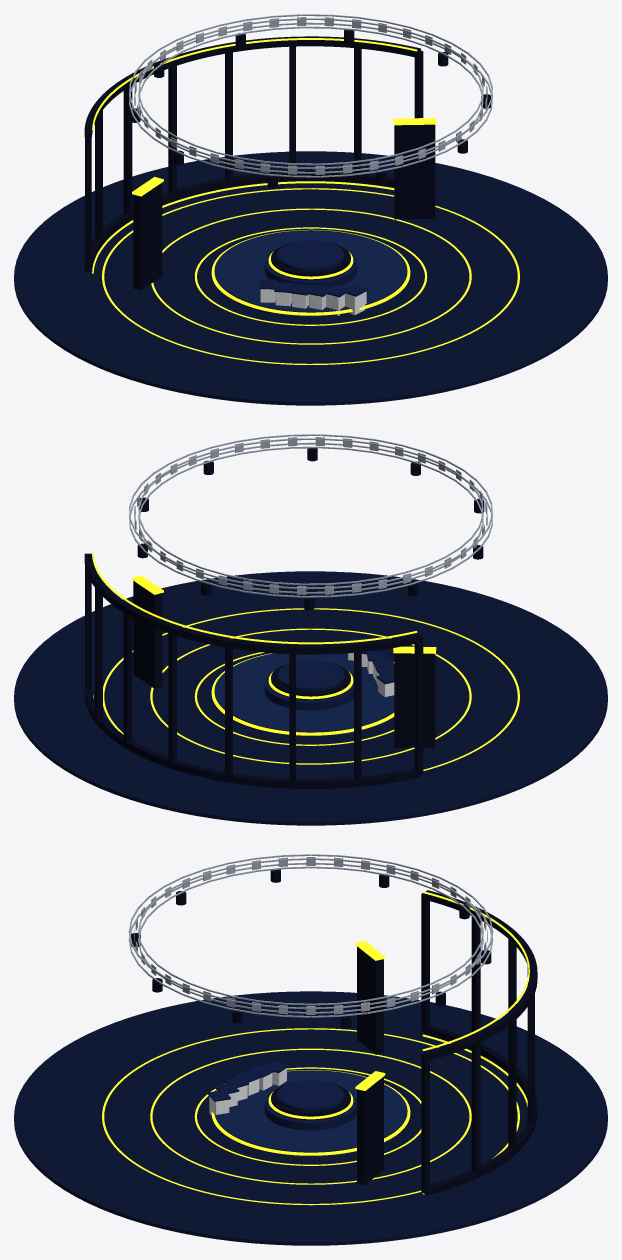
The model's file is studio.glb.
3 views of the same model, one above another, from view 1: azimuth 30°, elevation 25°; view 2: azimuth 150°, elevation 25°; view 3: azimuth 270°, elevation 25° (orthographic).
Parts seen in each view (by area): view 1: baked_studio; view 2: baked_studio; view 3: baked_studio.
Boxes of the visible parts, x1=… form: baked_studio: x1=14, y1=14, x2=607, y2=405; baked_studio: x1=14, y1=434, x2=607, y2=825; baked_studio: x1=14, y1=854, x2=607, y2=1245.
Bounding box in the file's own units: 32 × 11.24 × 32.
